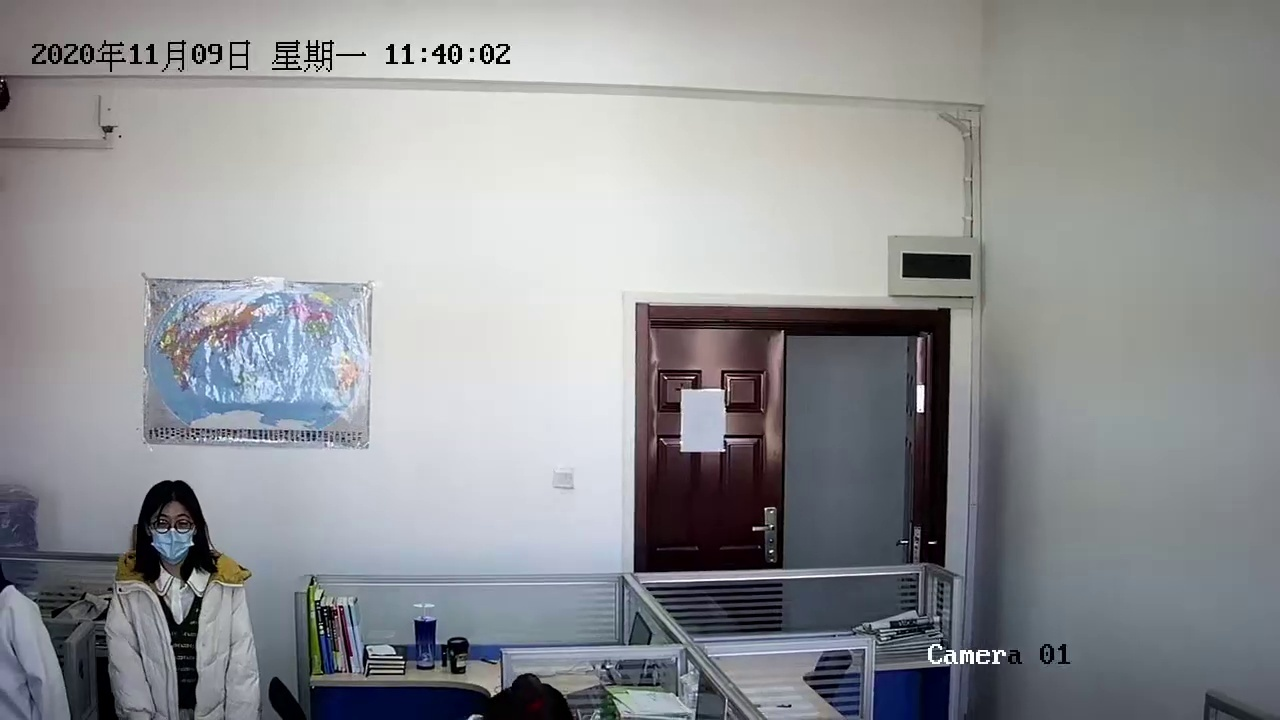mask: (124, 490, 205, 570)
